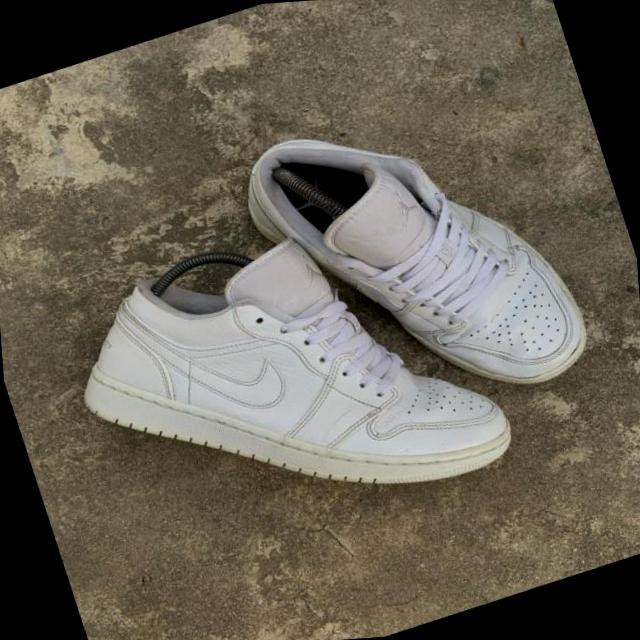nike_original_airforce: (46, 179, 539, 592), (224, 64, 605, 458)
